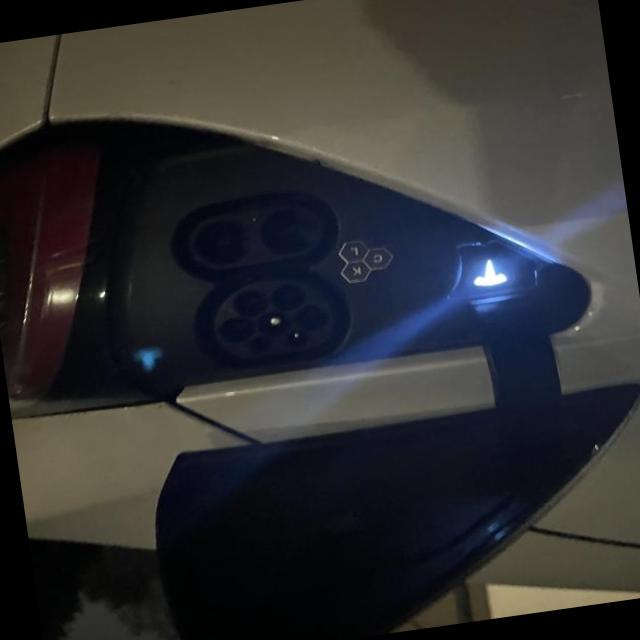inlet: (213, 279, 333, 358)
inlet-above-left: (284, 330, 308, 346)
inlet-above-right: (246, 337, 270, 352)
inlet-below-left: (269, 283, 306, 310)
inlet-below-right: (231, 290, 268, 316)
inlet-center: (255, 311, 291, 336)
inlet-center-left: (294, 304, 326, 328)
inlet-center-right: (219, 317, 254, 341)
